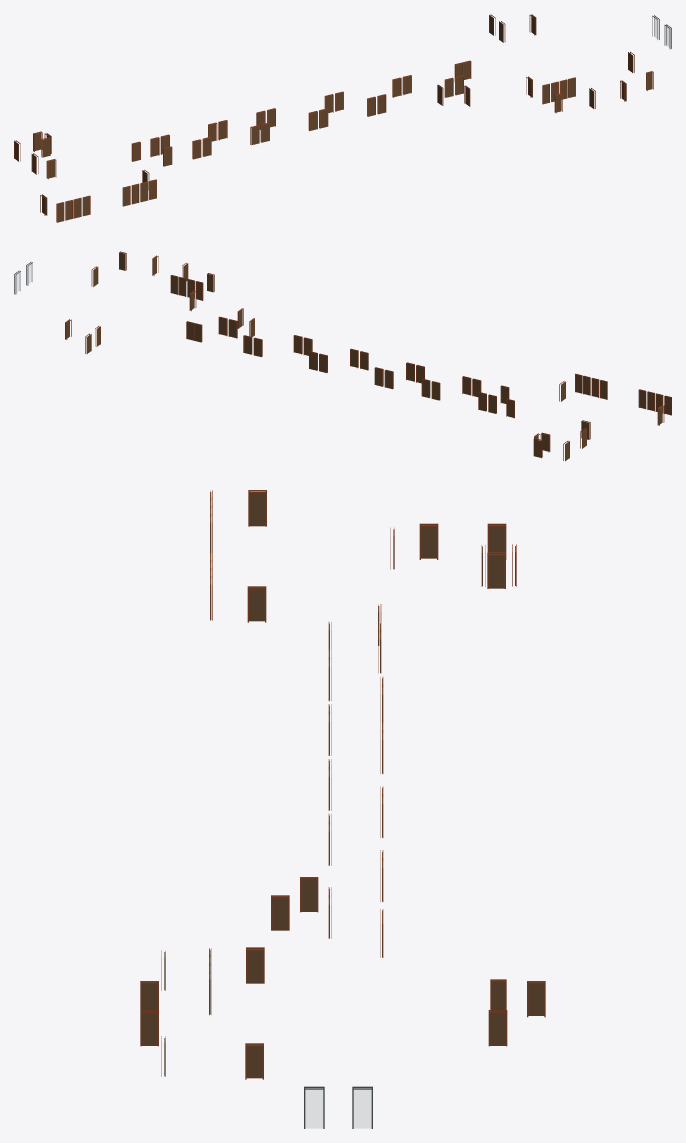
Rendered from insaat_revit.ifc.ifc.ifc.ifc_Level 5_IfcDoor.dae.
3 views of the same model, one above another, from view 1: azimuth 30°, elevation 25°; view 2: azimuth 150°, elevation 25°; view 3: azimuth 270°, elevation 25° (orthographic). The views are drawn at different scales.
Bounding box in the file's own units: 79.28 × 22.48 × 2.48.
